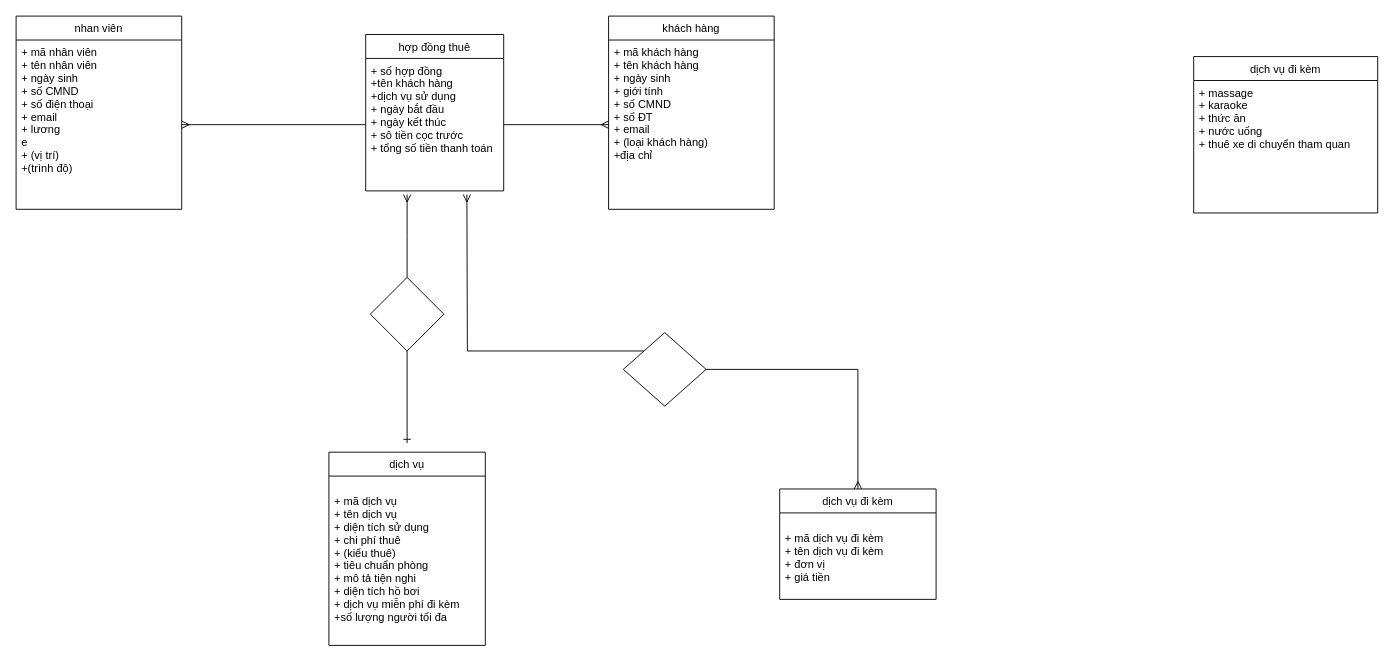
This 1394x664 diagram has some shape labels left out. The centre of each missing label's shape, as x and y in pixels:
"có" belongs at (664,369).
"có thể" belongs at (406,313).
